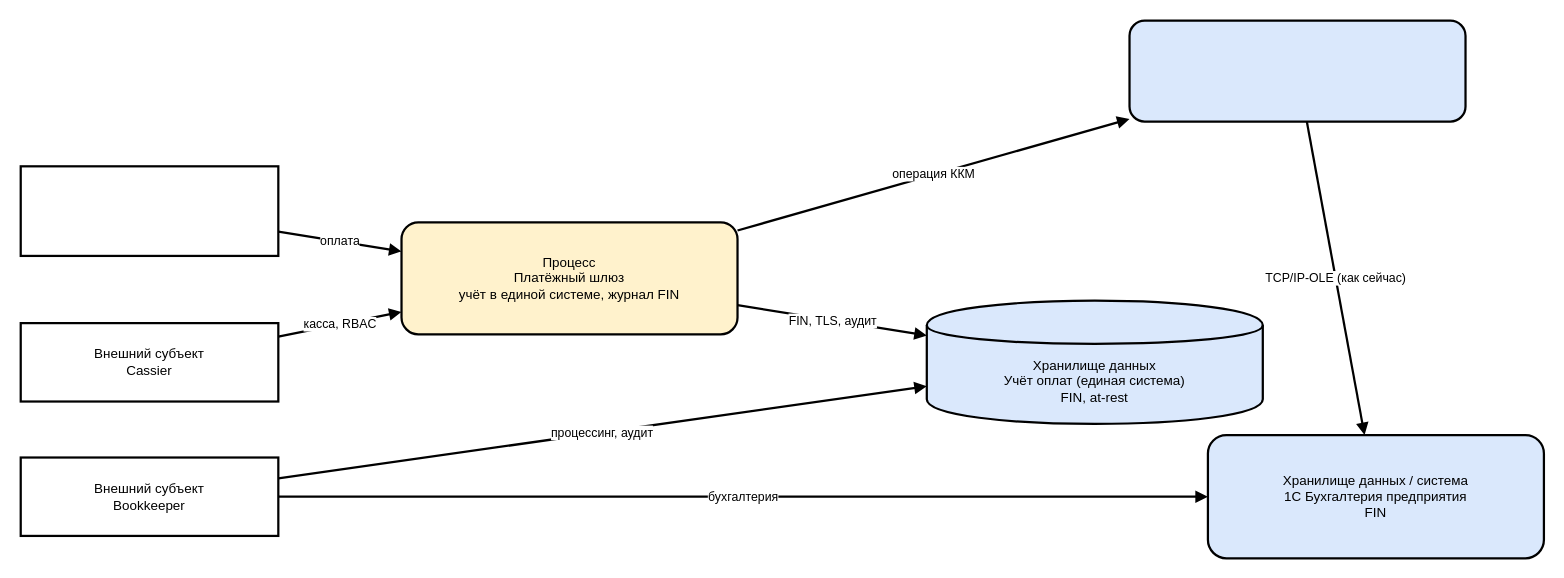
This 1564x578 diagram has some shape labels left out. Here are the shapes that lost their labels. From the top down, the centre of each, then its label:
At point 1297,70: "Источник данных / система ККМ FIN".
At point 149,210: "Внешний субъект Patient".
